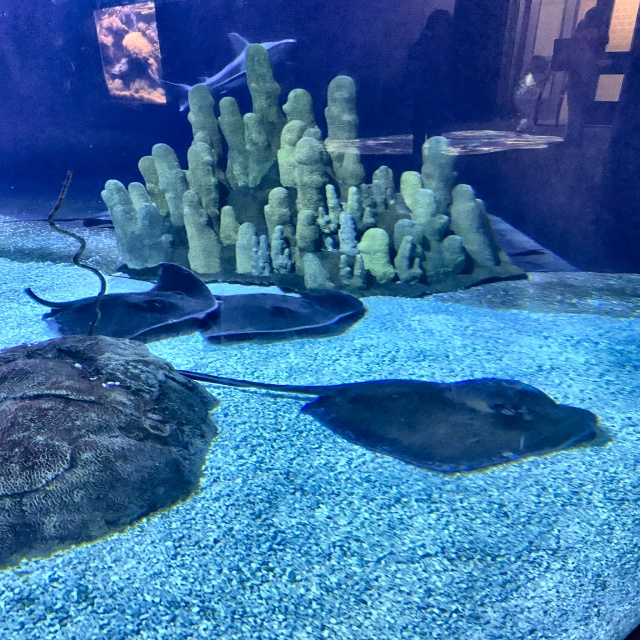shark: (168, 36, 294, 113)
stingray: (306, 377, 601, 470), (42, 260, 232, 344), (197, 285, 362, 349)
